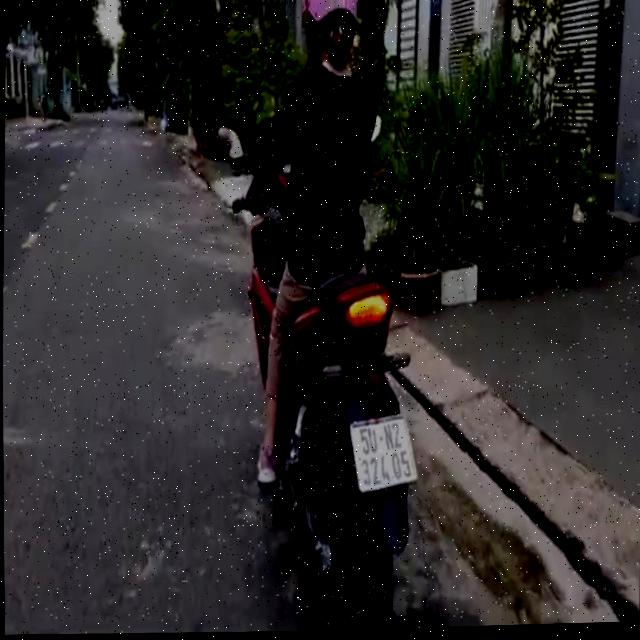motorcycle: (191, 98, 433, 634)
plate: (347, 411, 418, 495)
